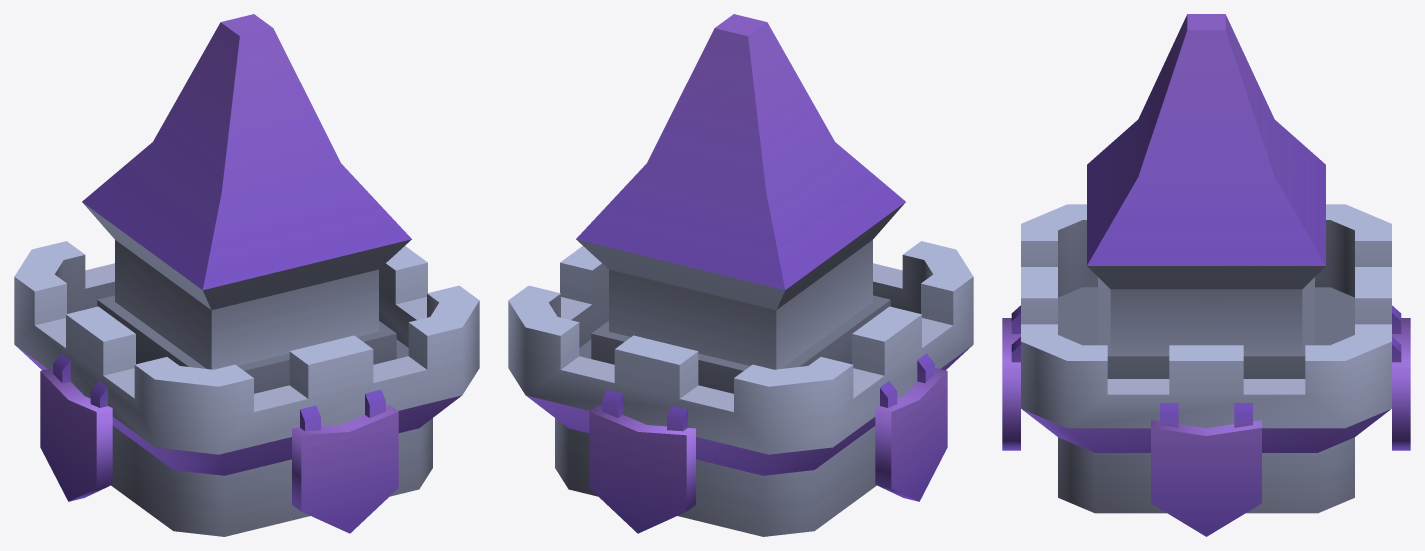
The model's file is tower-square-roof-a.glb.
3 renders of one model, left to right at view 1: azimuth 30°, elevation 25°; view 2: azimuth 150°, elevation 25°; view 3: azimuth 270°, elevation 25°, orthographic.
Visible parts, largest first — view 1: tower-square-roof-a; view 2: tower-square-roof-a; view 3: tower-square-roof-a.
Boxes of the visible parts, x1,y1,x2,y2 form: tower-square-roof-a: [14, 14, 479, 536]; tower-square-roof-a: [508, 14, 973, 536]; tower-square-roof-a: [1002, 14, 1410, 536].
Size of the model in its own units: 1.1 by 1.27 by 1.1.
Materials: 1 (1 with a texture image).
